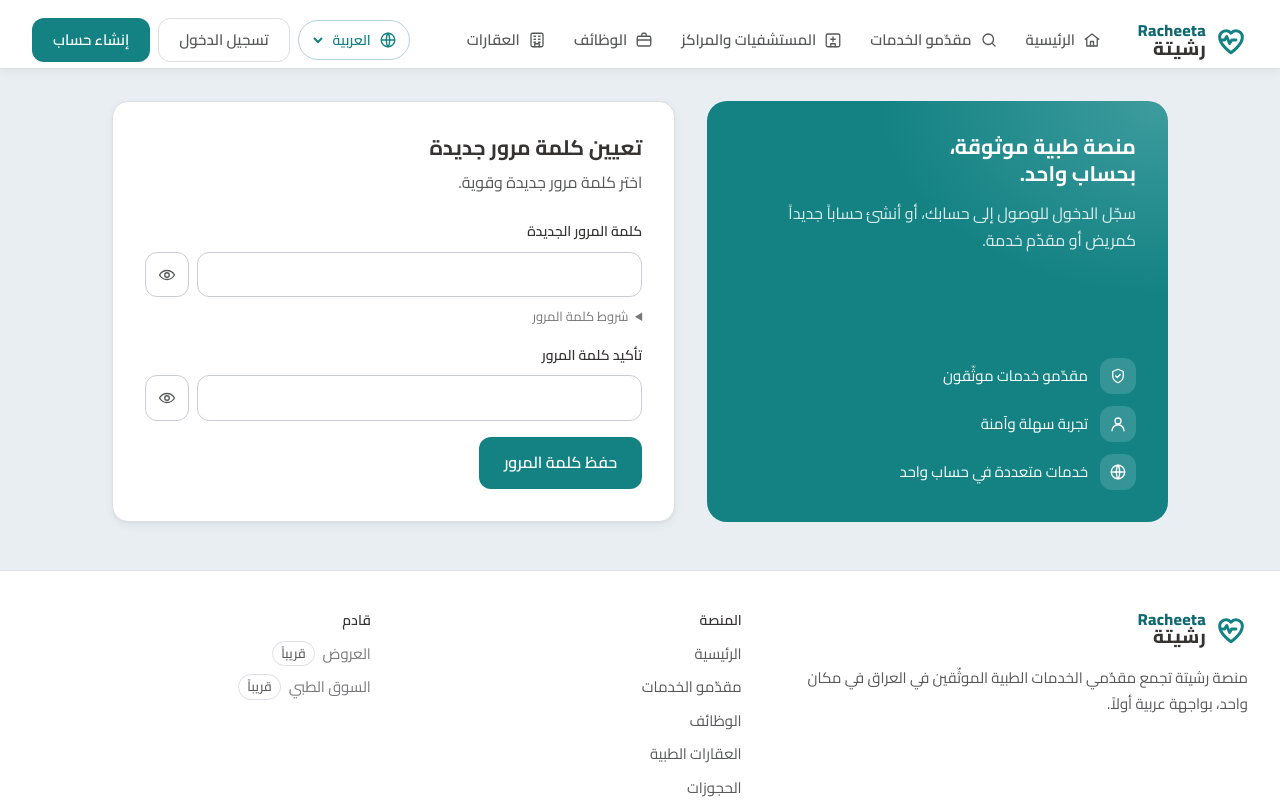
Scenario: ResetPasswordPage › confirms the new password and offers the login link
Type "An0ther-Str0ng-One!" into the password field labelled "كلمة المرور الجديدة" at (420, 275), box [197,252,642,298]
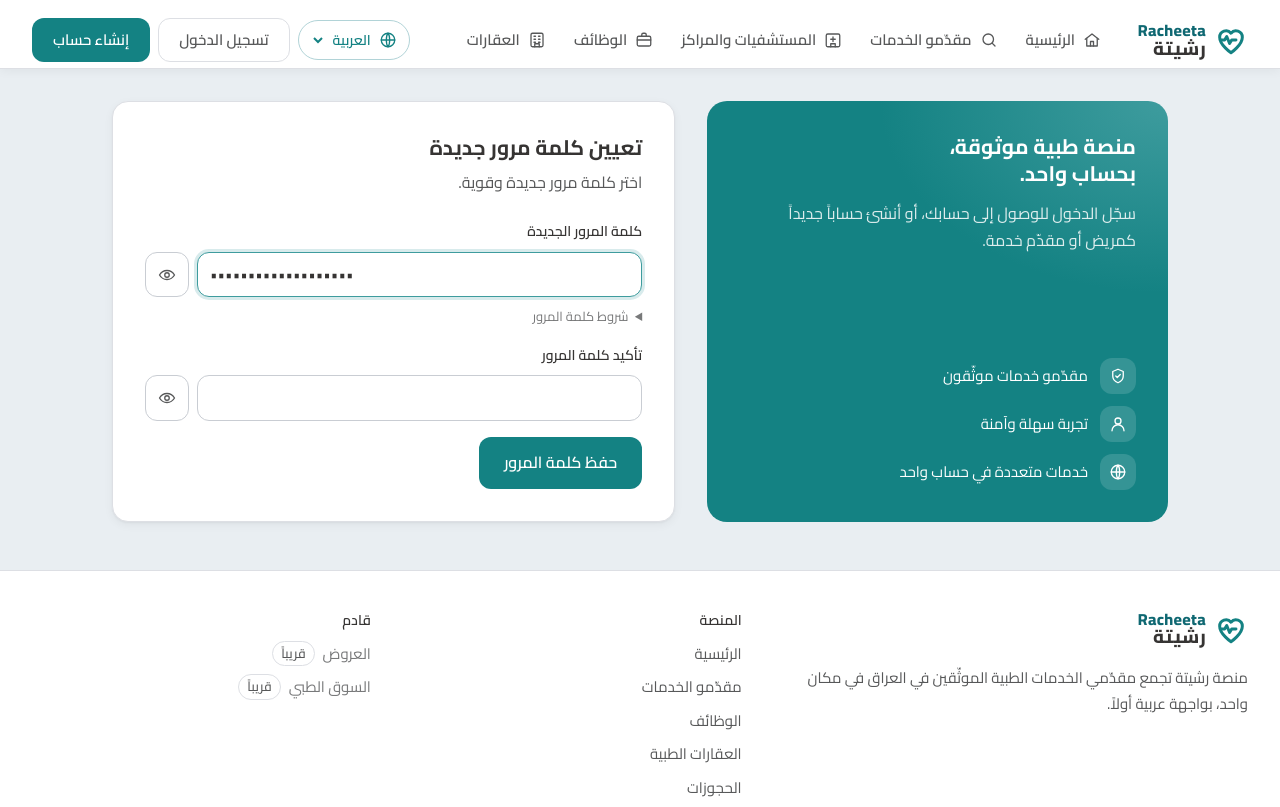
Type "An0ther-Str0ng-One!" into the password field labelled "تأكيد كلمة المرور" at (420, 398), box [197,375,642,421]
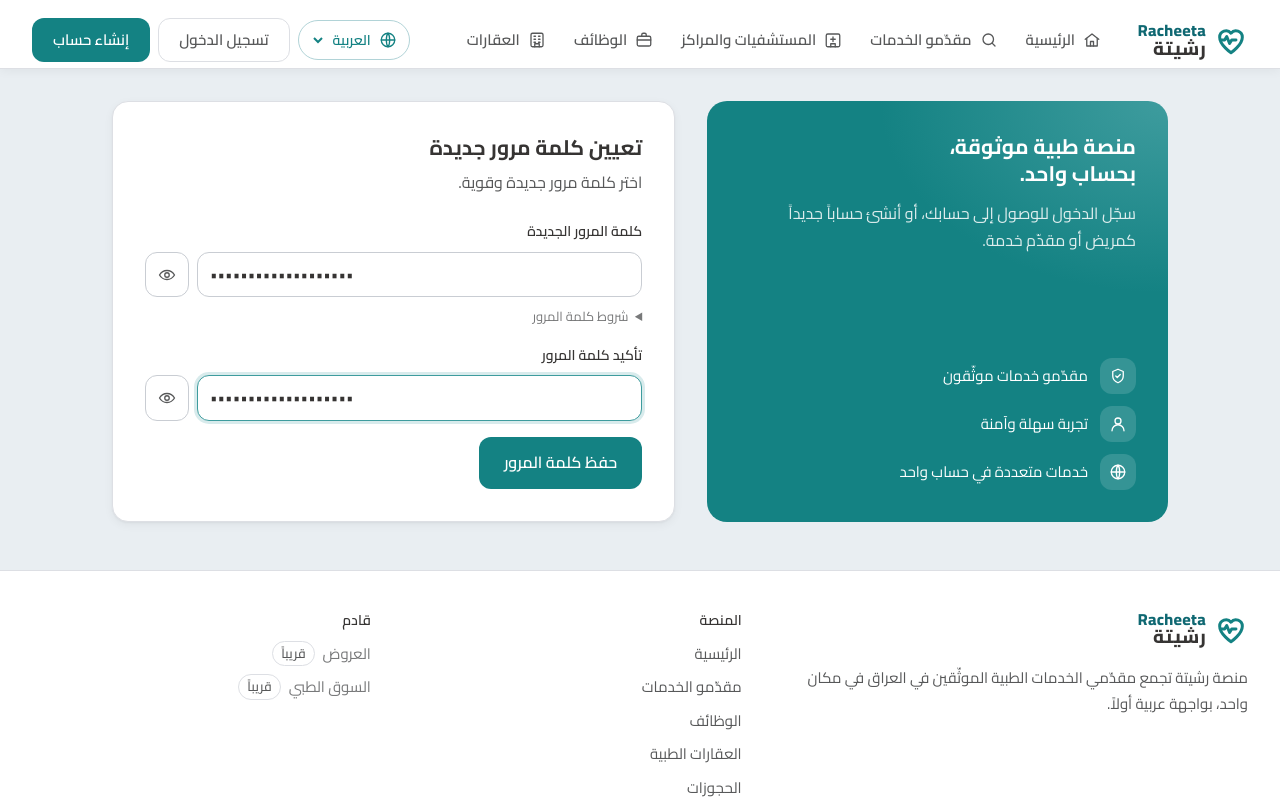
Click the button "حفظ كلمة المرور" at (561, 462), box [479,436,642,488]
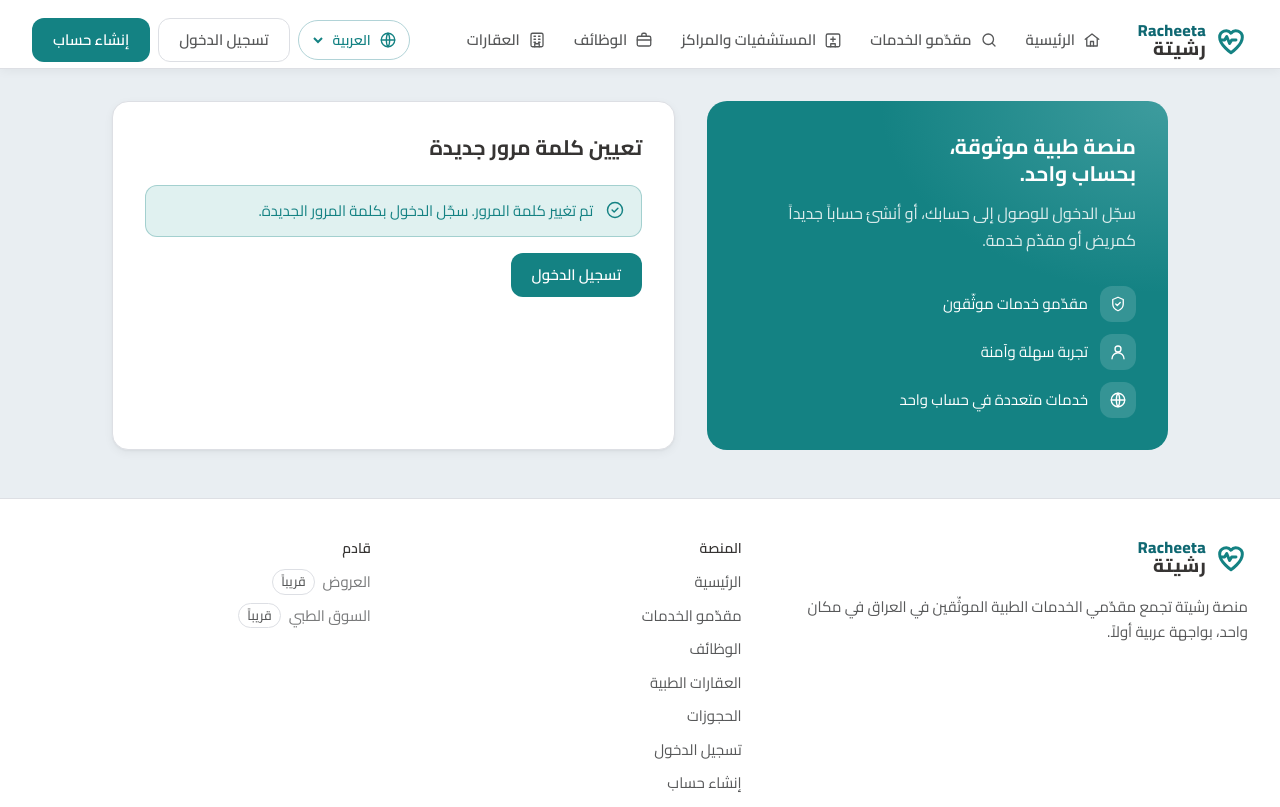
Expected: the text "تم تغيير كلمة المرور. سجّل الدخول بكلمة المرور الجديدة." is shown, [258,196,593,225]
